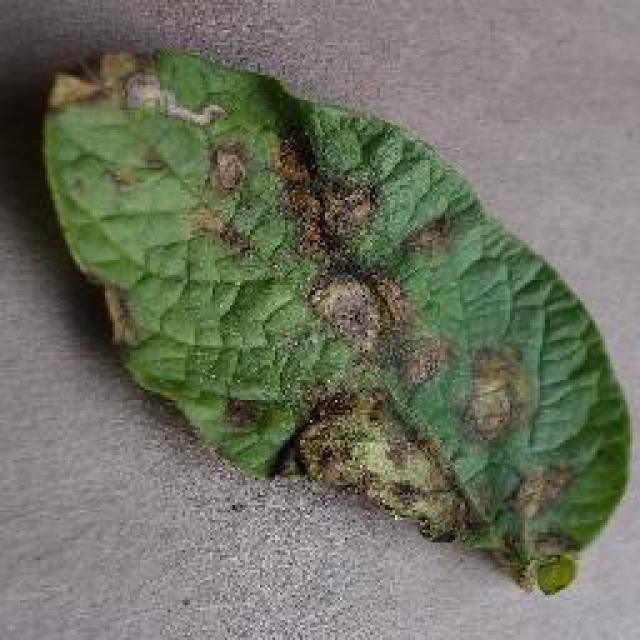late_blight: (35, 42, 635, 598)
